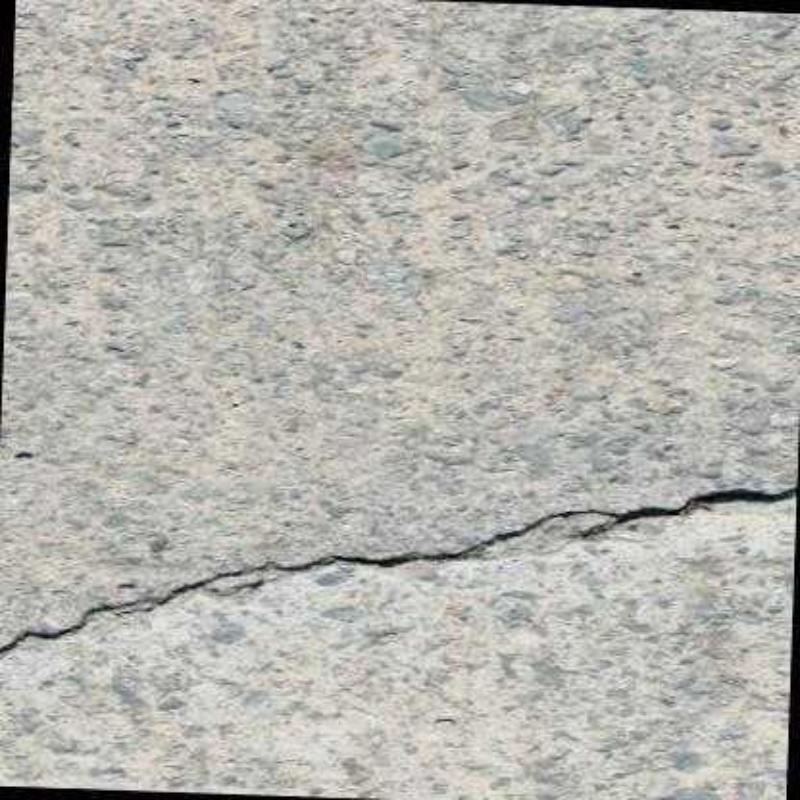pothole: (0, 486, 797, 654)
